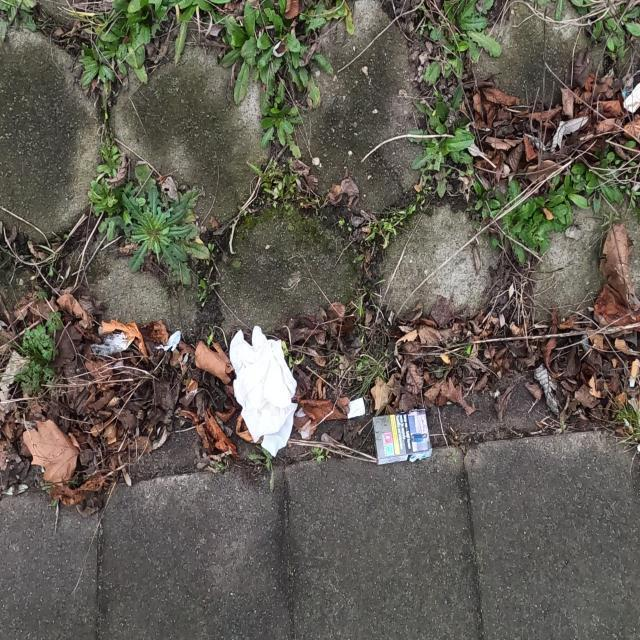Paper: (228, 324, 300, 459), (370, 407, 433, 468)
